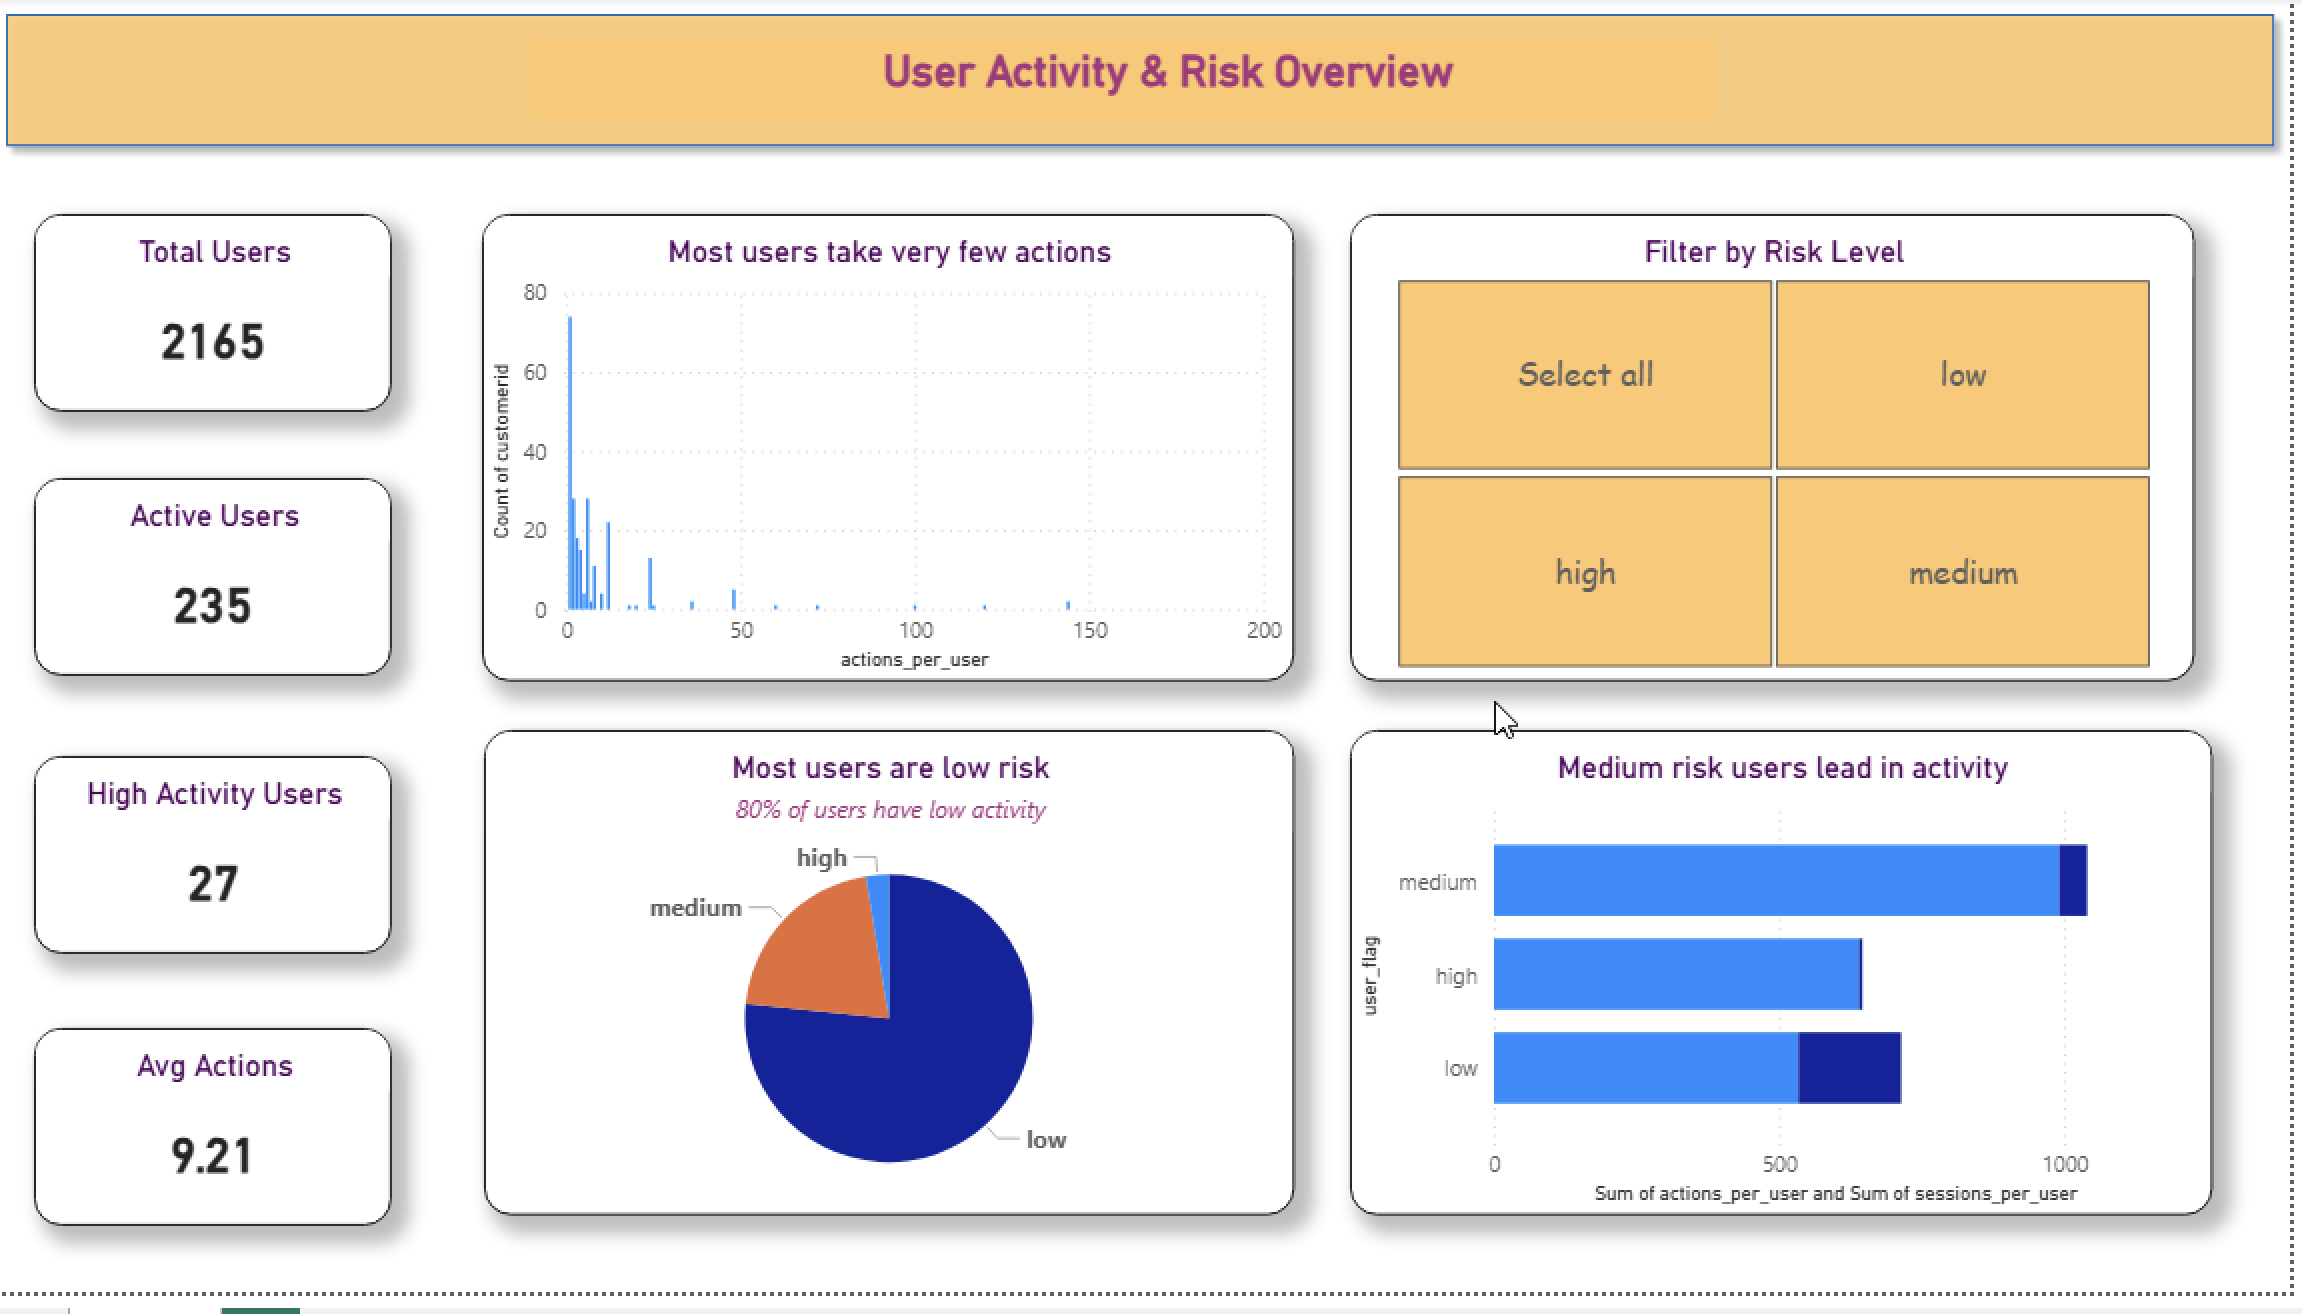

This screenshot's page, from the dashboard's own definition file:
{"tool":"powerbi","page":{"name":"Page 1","canvas":[1280,720],"ordinal":0},"visuals":[{"type":"shape","box":[0,0,1280,91.6],"z":0},{"type":"textbox","box":[300.8,22.3,661,44.6],"z":1000},{"type":"card","title":"Avg Actions ","fields":{"Values":["Avg(user_activity.avg_qty)"]},"box":[24.8,573.2,199.3,110.2],"z":2000},{"type":"card","title":" Active Users","fields":{"Values":["CountNonNull(user_activity.customerid)"]},"box":[24.8,267.4,199.3,110.2],"z":3000},{"type":"card","title":"High Activity  Users","fields":{"Values":["CountNonNull(user_activity.customerid)"]},"box":[24.8,422.1,199.3,110.2],"z":4000},{"type":"card","title":"Total Users","fields":{"Values":["Sum(user_activity.actions_per_user)"]},"box":[24.8,120.1,199.3,110.2],"z":5000},{"type":"barChart","title":"Medium risk users lead in activity","fields":{"Y":["Sum(user_activity.actions_per_user)","Sum(user_activity.sessions_per_user)"],"Category":["user_activity.user_flag"]},"box":[756.4,407.3,480,269.9],"z":6000},{"type":"pieChart","title":"Most users are low risk","fields":{"Category":["user_activity.user_flag"],"Y":["CountNonNull(user_activity.customerid)"]},"box":[274.8,407.3,450.6,269.9],"z":7000},{"type":"lineStackedColumnComboChart","title":"Most users take very few actions","fields":{"Y":["CountNonNull(user_activity.customerid)"],"Category":["user_activity.actions_per_user"]},"box":[273.6,120.1,451.8,260],"z":8000},{"type":"slicer","title":"Filter by Risk Level","fields":{"Values":["user_activity.user_flag"]},"box":[756.4,120.1,470.4,260],"z":8001}]}

Visuals, with their boxes in screenshot pixels (x1, y1, x2, y2), scaled from the page's 1280x720 canvas onto the 2302x1314 screenshot:
shape: <box>0,0,2301,167</box>
textbox: <box>541,41,1730,122</box>
"Avg Actions " card: <box>45,1046,403,1247</box>
" Active Users" card: <box>45,488,403,689</box>
"High Activity  Users" card: <box>45,770,403,971</box>
"Total Users" card: <box>45,219,403,420</box>
"Medium risk users lead in activity" barChart: <box>1360,743,2224,1236</box>
"Most users are low risk" pieChart: <box>494,743,1305,1236</box>
"Most users take very few actions" lineStackedColumnComboChart: <box>492,219,1305,694</box>
"Filter by Risk Level" slicer: <box>1360,219,2206,694</box>
